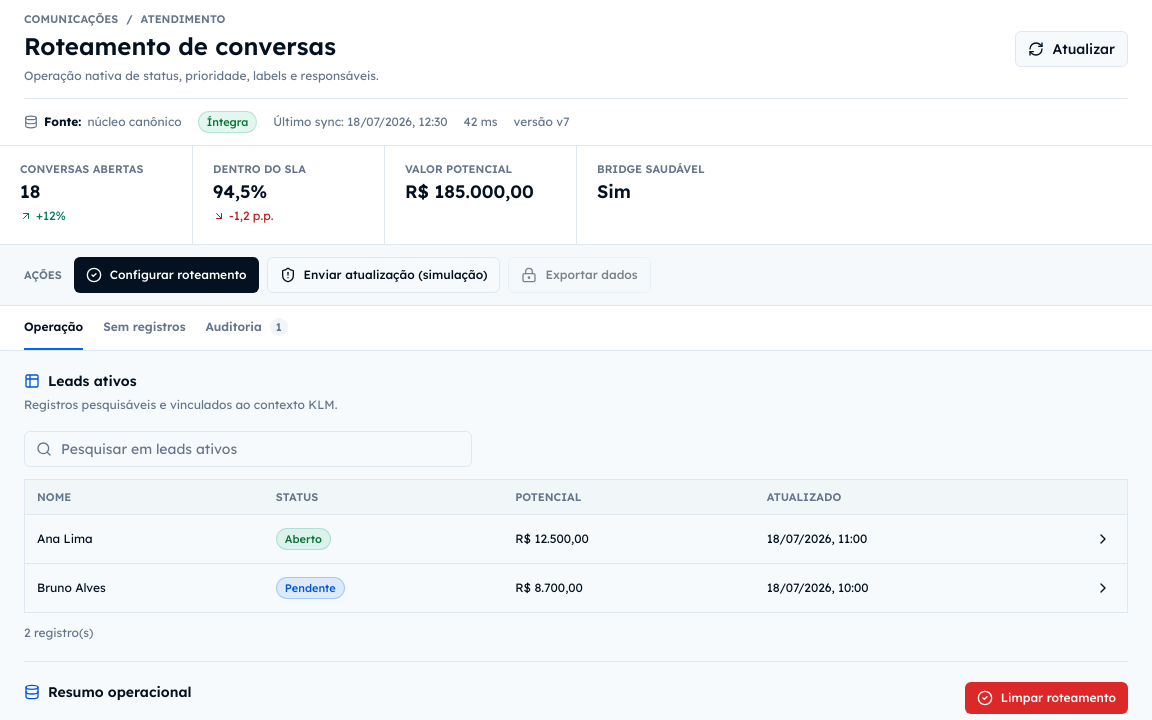
Test: NativeCapabilityWorkspace schema-driven renderer › renders every native section, source health, KPIs, tabs and audit without an iframe
Expected: the heading "Roteamento de conversas" is shown, [24,30,379,62]
Expected: the text "Comunicações" is shown, [24,12,118,26]
Click the tab "Auditoria 1": (247, 328) [206,306,288,350]
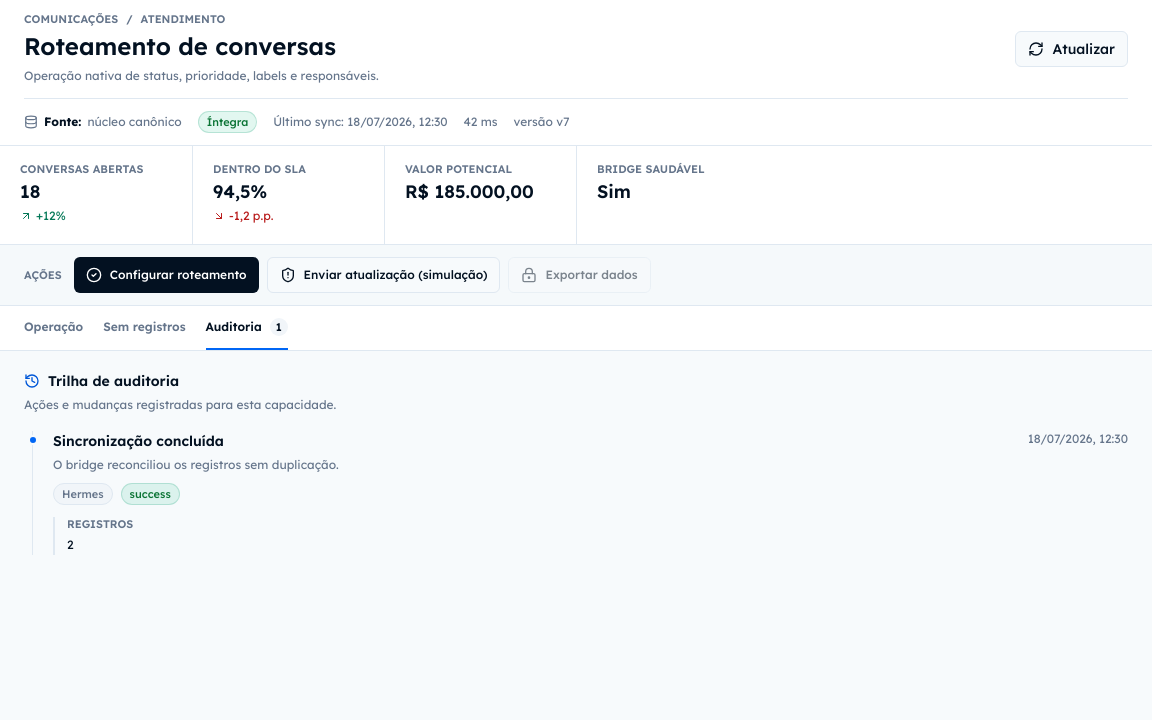
Expected: the text "O bridge reconciliou os registros sem duplicação." is shown, [53,457,339,472]
Expected: the heading "Trilha de auditoria" is shown, [24,372,179,390]
Click the tab "Sem registros": (144, 328) [103,306,186,350]
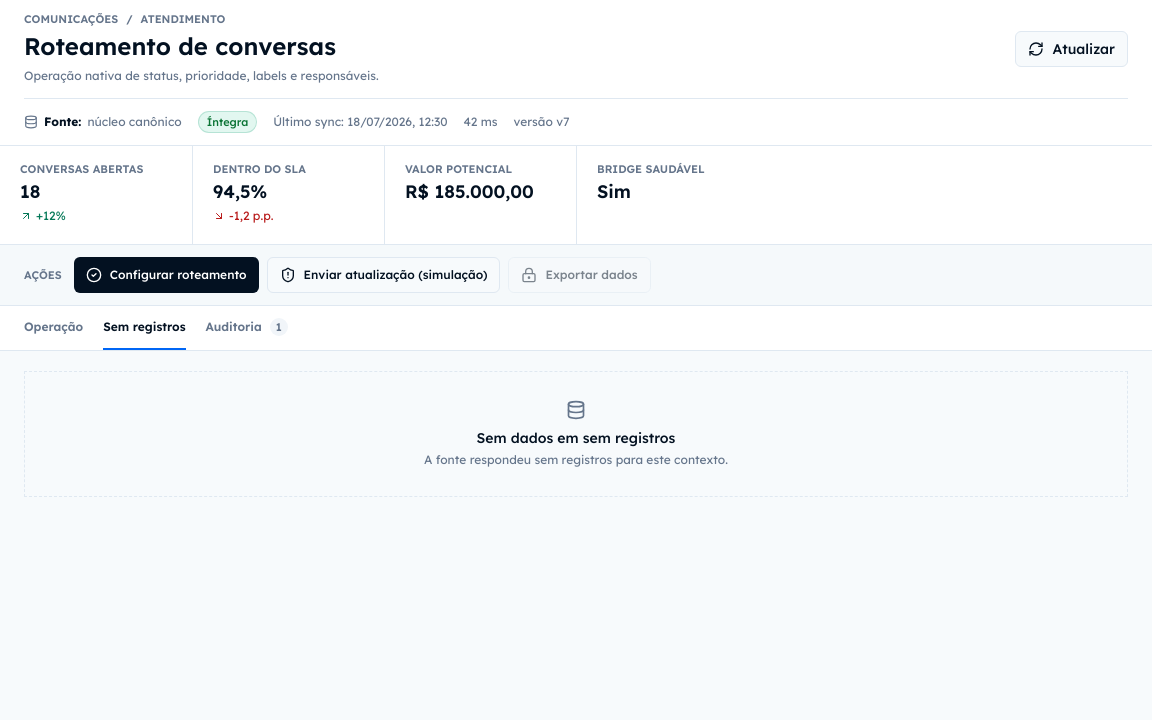
Expected: the text "Sem dados em sem registros" is shown, [477,429,675,447]
